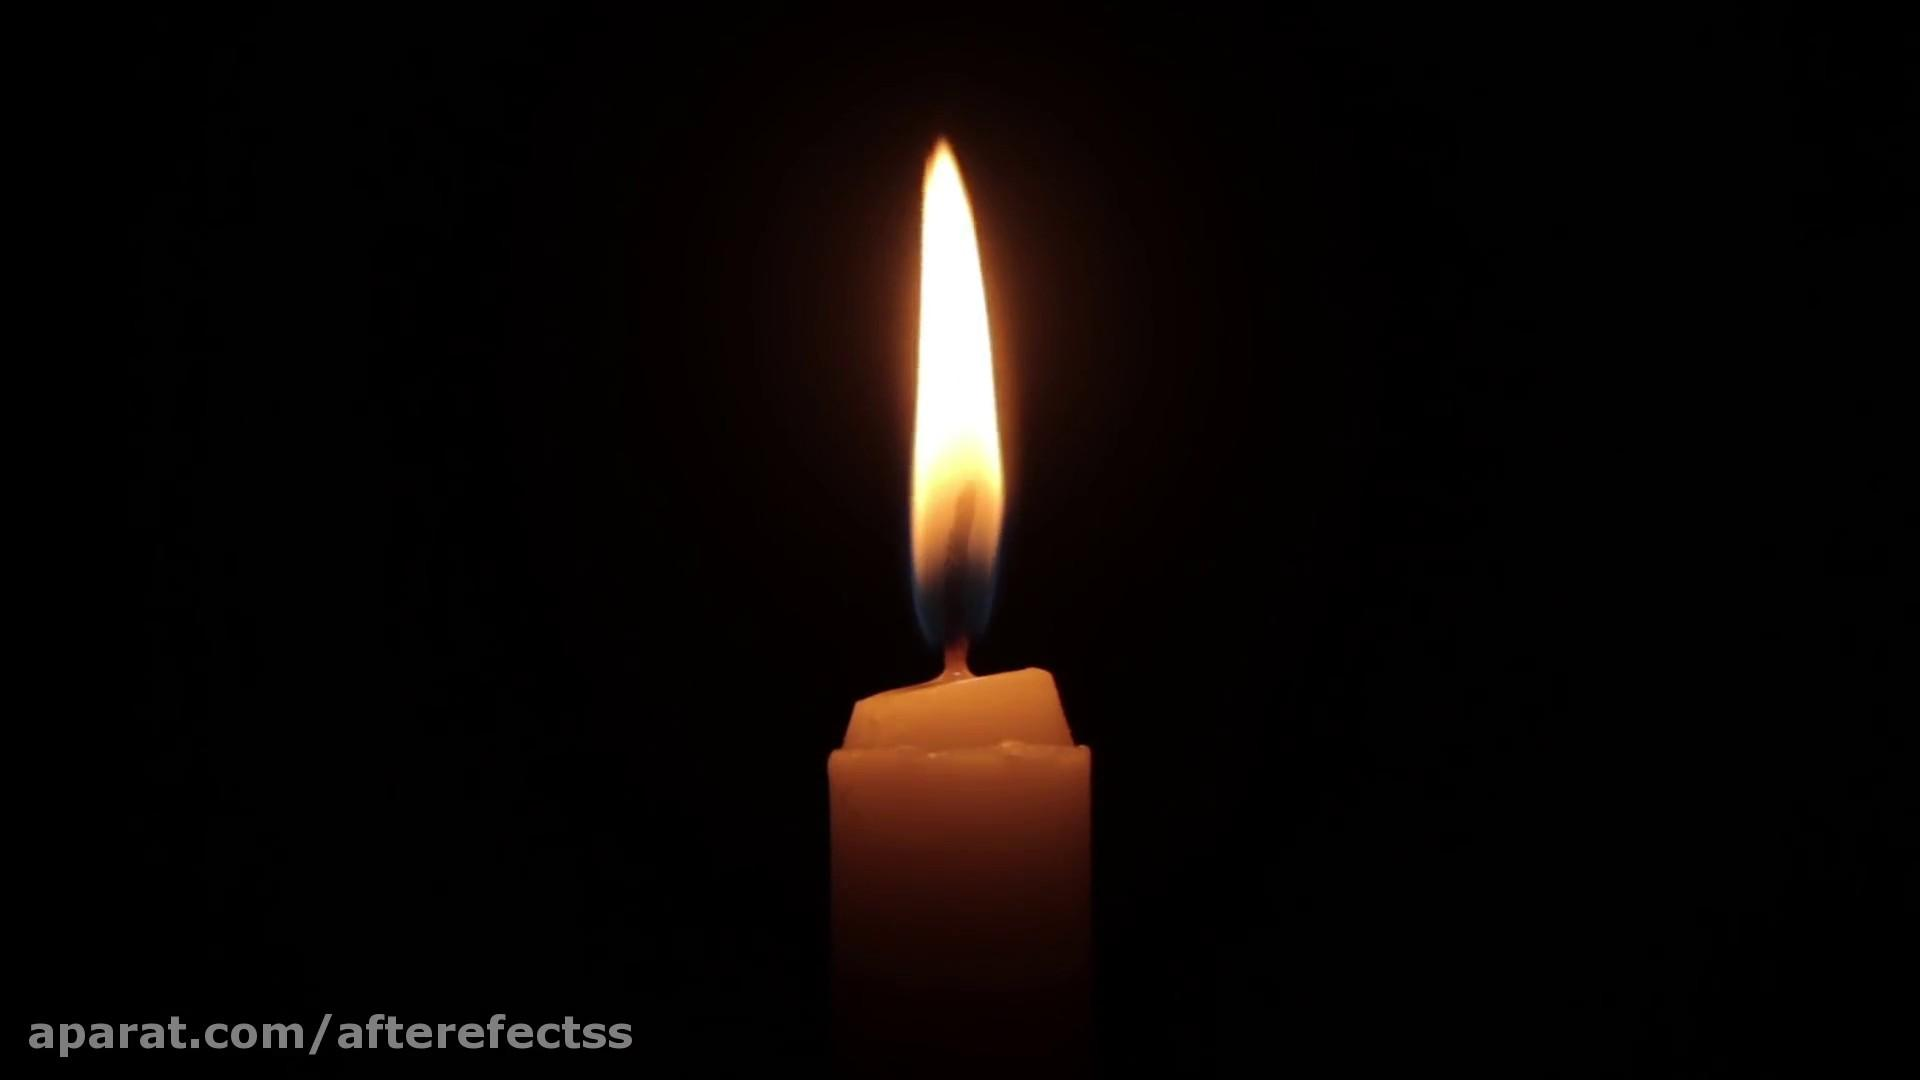fire: (906, 149, 1021, 625)
